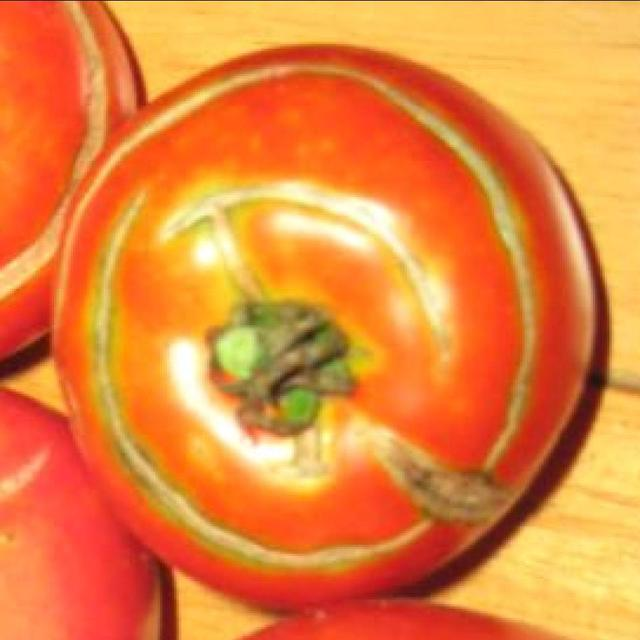Cracking Fruit: (180, 135, 332, 346)
